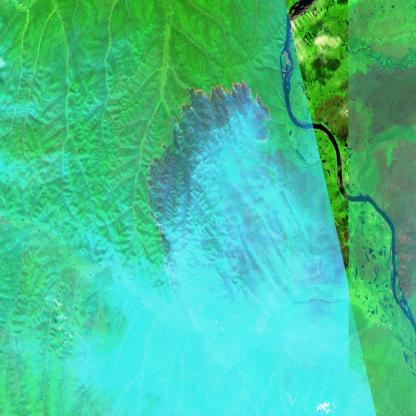fire: (140, 80, 278, 296)
